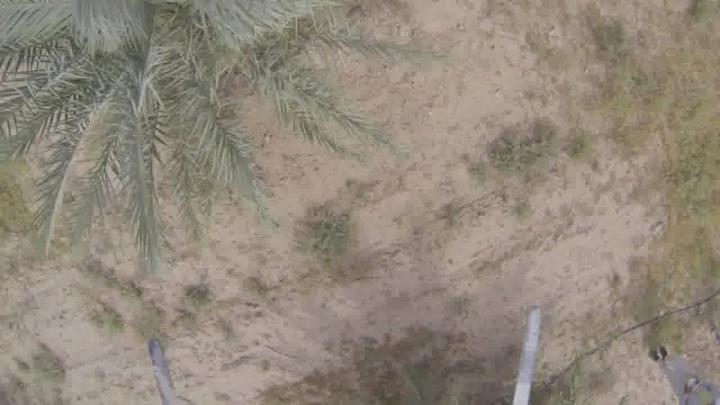Date-Palm-Crown: (44, 1, 240, 126)
